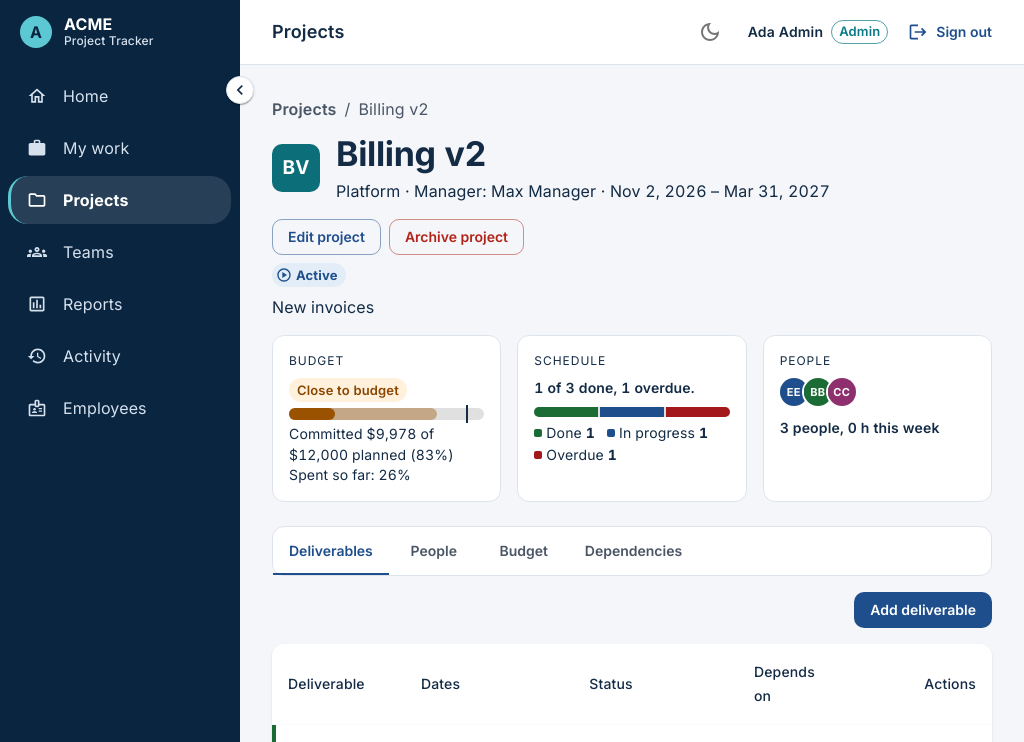
Test case: Dependencies tab › an error shows a fixed message, and Try again loads it
The image size is (1024, 742).
Click the tab "Dependencies" at coordinates (633, 550), box [569,526,698,574]
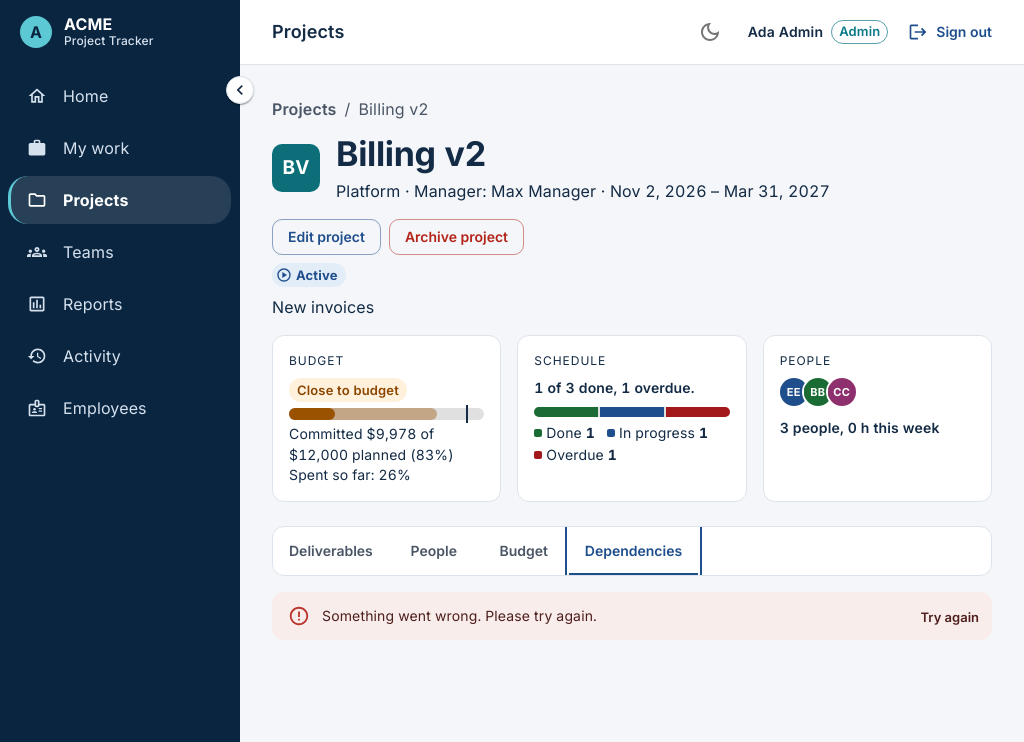
Check: the text "Something went wrong. Please try again." is shown, box [322,606,597,624]
Click the button "Try again" at coordinates (950, 617), box [915,602,984,632]
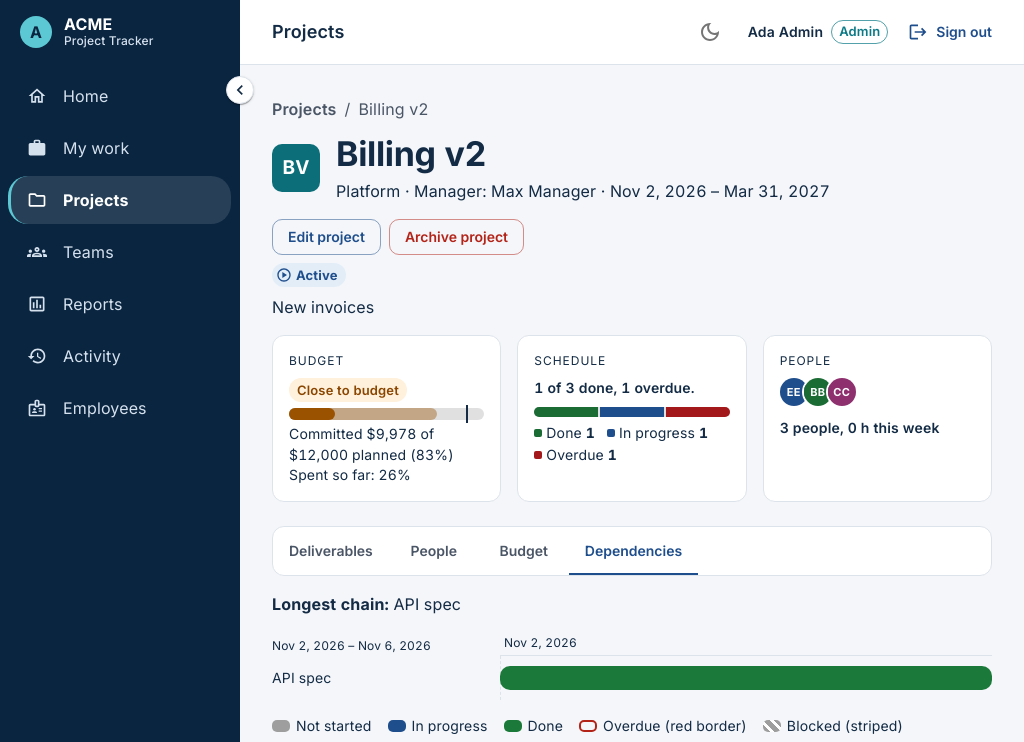
Check: the picture named "API spec" is shown, box [500,666,992,690]
